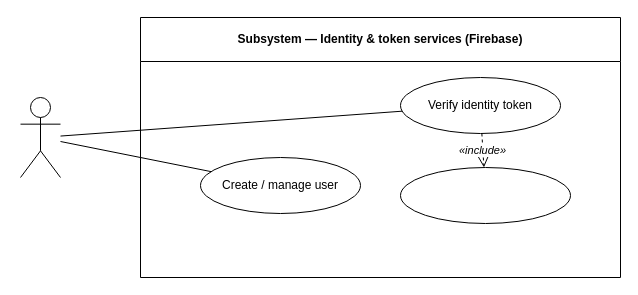
The diagram is 638 pixels wide and 295 high, and some of its shapes have lost their labels. The shapes that lost their labels are listed below. From the top down, each one's box as (x1, y1, x2, y2) in pixels, then its label:
(20, 96, 60, 178): Firebase
(400, 166, 570, 224): Sync UID to backend
